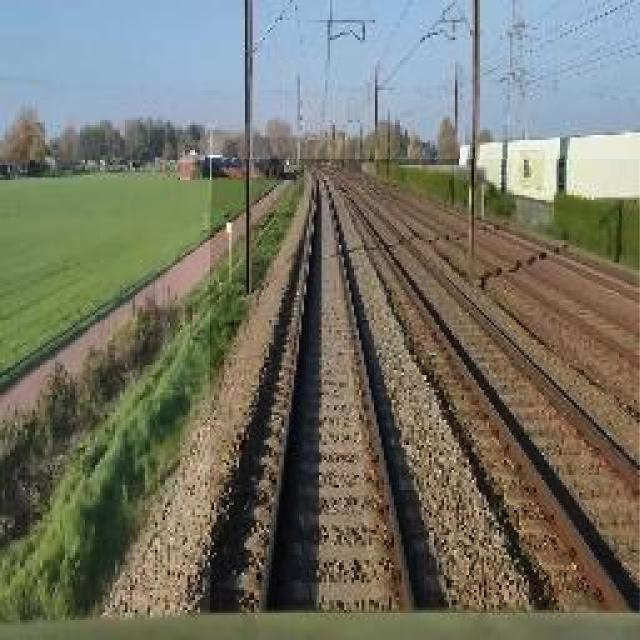rail: (211, 160, 640, 614)
